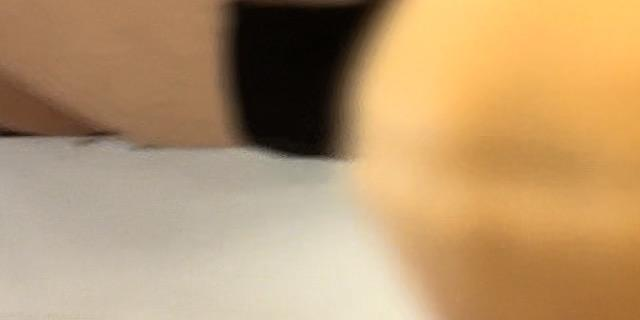burger: (342, 0, 640, 320)
